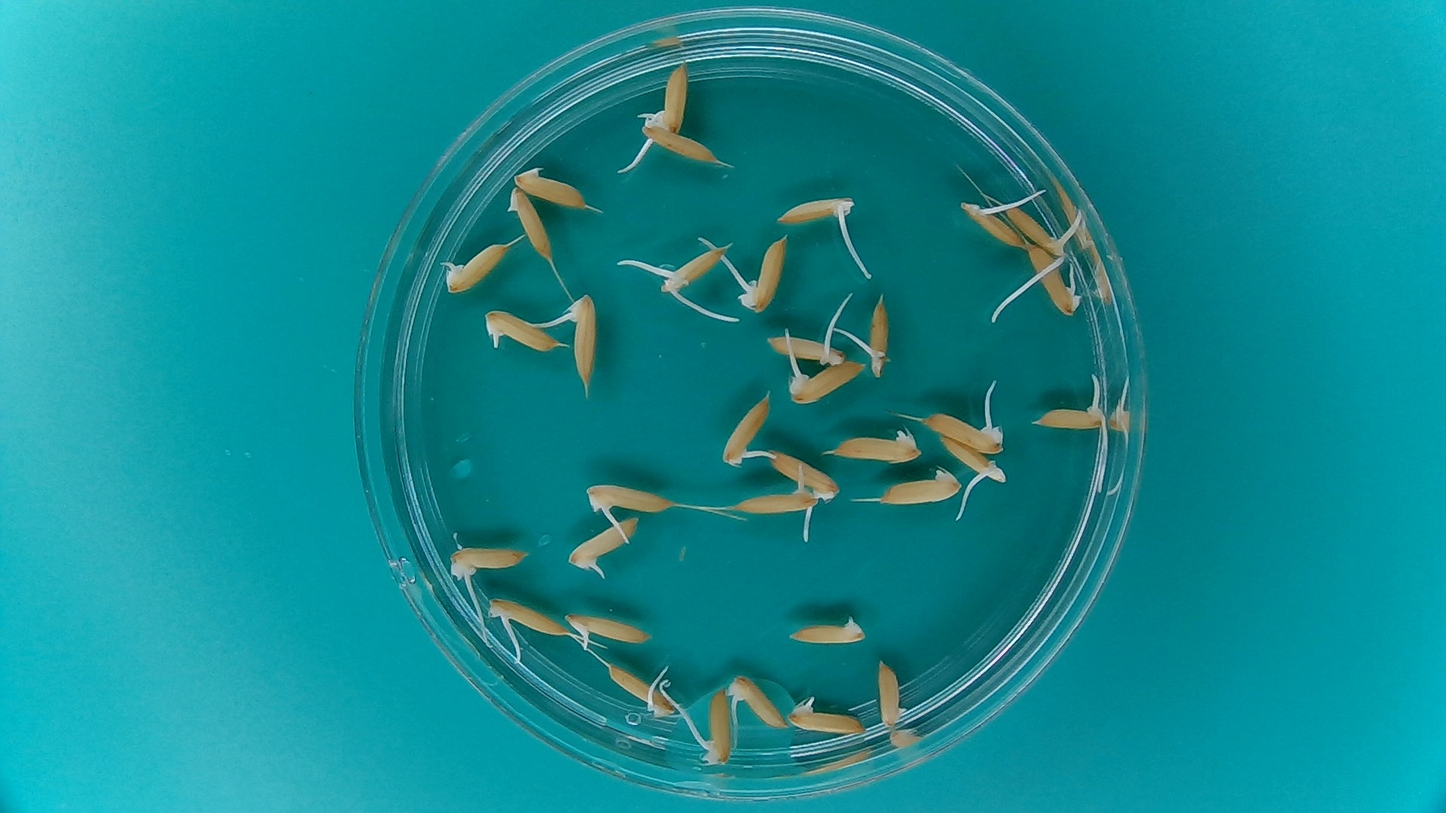no: (511, 161, 595, 210), (828, 422, 925, 464), (505, 187, 556, 263), (878, 463, 963, 507), (876, 659, 909, 727)
yes: (654, 238, 731, 298), (565, 514, 642, 574), (558, 287, 601, 392), (784, 355, 870, 406), (719, 389, 773, 469), (640, 57, 694, 136), (480, 305, 564, 355), (486, 594, 573, 642), (740, 231, 790, 314), (439, 239, 513, 295), (766, 449, 845, 501), (603, 661, 677, 715), (1002, 197, 1070, 255), (920, 406, 1005, 452), (1031, 245, 1086, 315), (563, 607, 654, 649), (581, 479, 676, 518), (940, 436, 1008, 489), (447, 541, 532, 583), (728, 673, 789, 731), (642, 118, 717, 165), (959, 199, 1024, 250), (786, 696, 868, 736), (734, 487, 820, 525), (771, 189, 861, 225), (695, 687, 734, 766), (859, 291, 894, 377), (764, 327, 847, 363), (784, 612, 869, 647), (1033, 408, 1102, 433)
